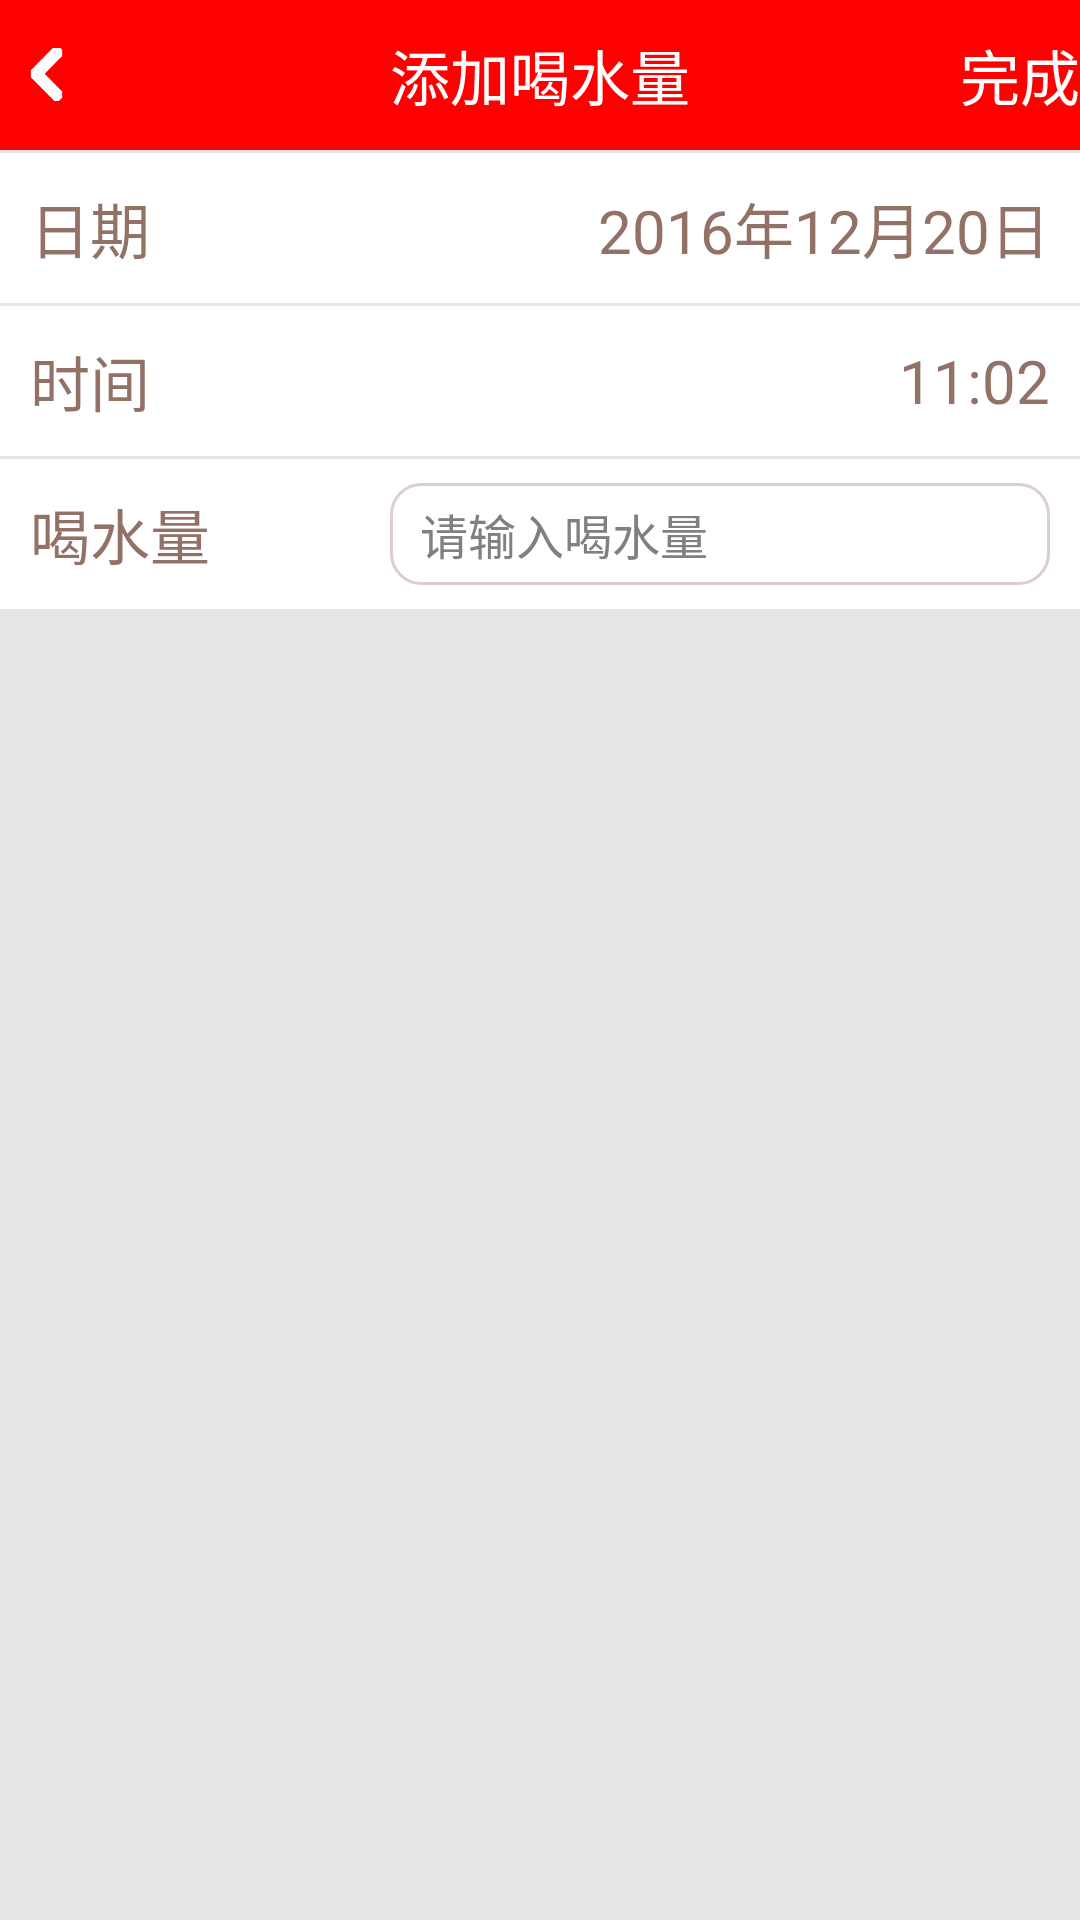

Icon bounding boxes for this 1080 x 1920 phone screenshot, format (x1,y1,x2,y2):
bar back: (30,48,63,101)
